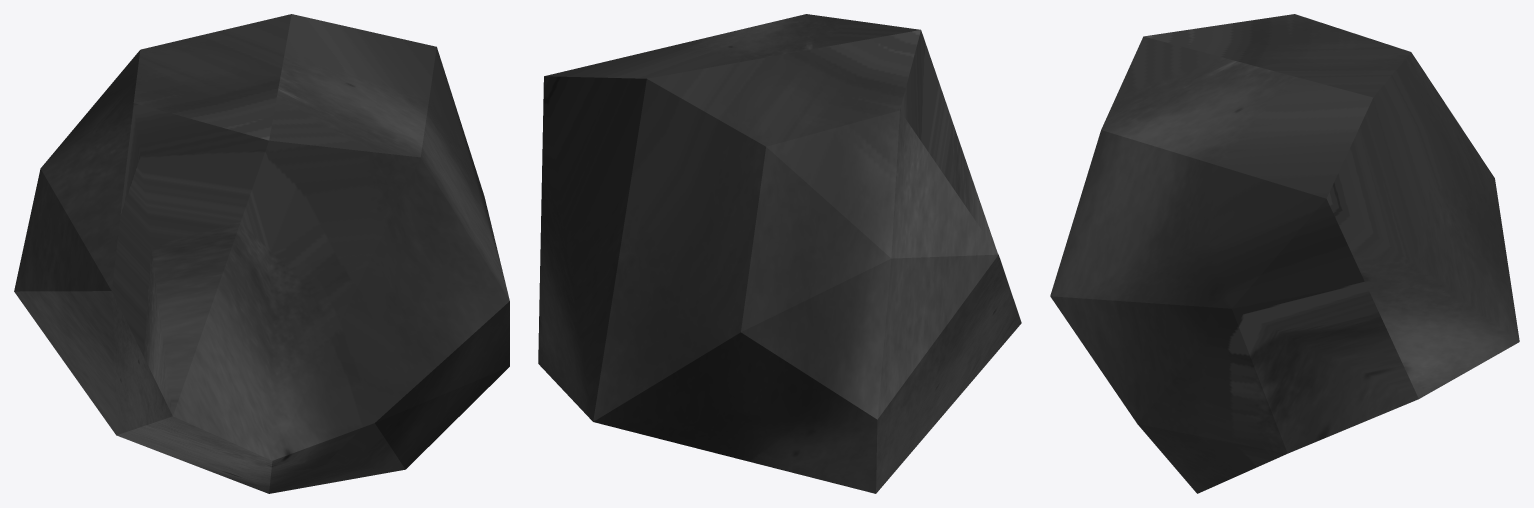
File: Projectile.fbx
3 renders of one model, left to right at view 1: azimuth 30°, elevation 25°; view 2: azimuth 150°, elevation 25°; view 3: azimuth 270°, elevation 25°, orthographic. The views are drawn at different scales.
Parts seen in each view (by area): view 1: pSphere1; view 2: pSphere1; view 3: pSphere1.
Boxes of the visible parts, x1,y1,x2,y2 form: pSphere1: (14, 14, 509, 493); pSphere1: (538, 14, 1021, 493); pSphere1: (1050, 14, 1519, 493).
Size of the model in its own units: 1.7 by 1.75 by 1.88.
